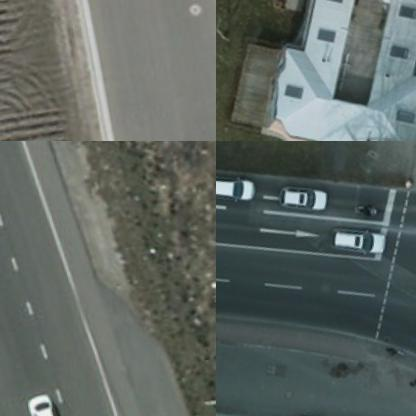car: (330, 220, 392, 264), (276, 178, 330, 220), (216, 169, 259, 206), (26, 381, 69, 415)
